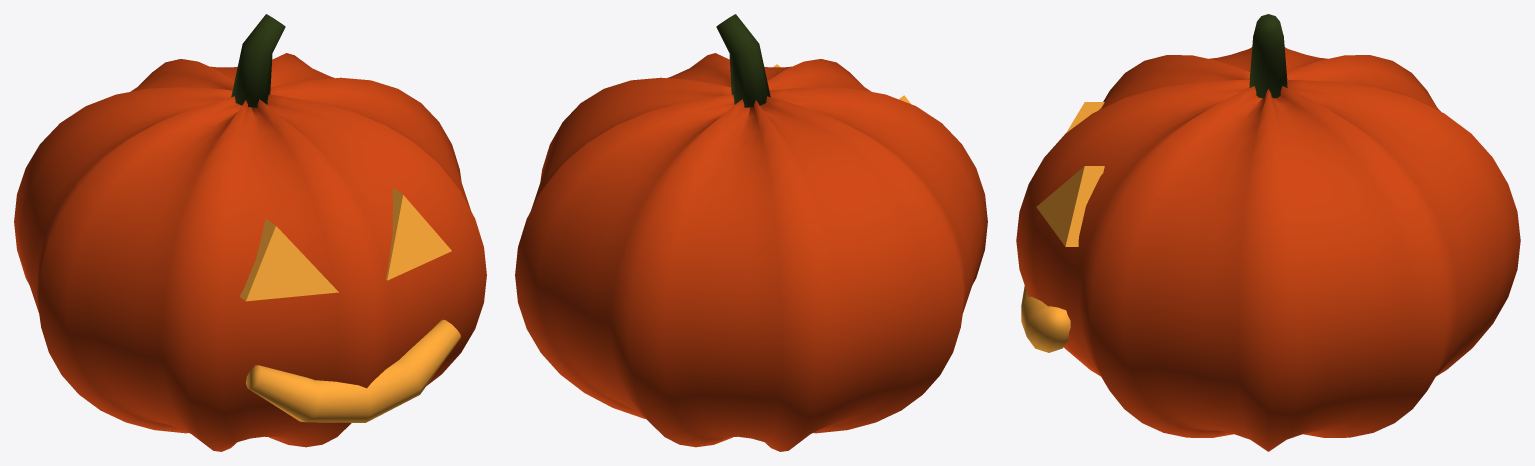
The model's file is jack_o_lantern.obj.
The picture shows the model from 3 angles, left to right: view 1: azimuth 30°, elevation 25°; view 2: azimuth 150°, elevation 25°; view 3: azimuth 270°, elevation 25°; orthographic projection. The views are drawn at different scales.
Parts seen in each view (by area): view 1: LH_jack_o_lantern; view 2: LH_jack_o_lantern; view 3: LH_jack_o_lantern.
Boxes of the visible parts, bbox=[...] form: LH_jack_o_lantern: bbox=[14, 14, 486, 451]; LH_jack_o_lantern: bbox=[515, 14, 987, 451]; LH_jack_o_lantern: bbox=[1016, 14, 1520, 451].
Size of the model in its own units: 0.3 by 0.2745 by 0.3.
